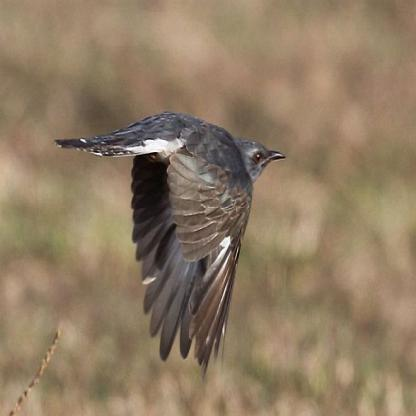Burung: (54, 111, 285, 382)
